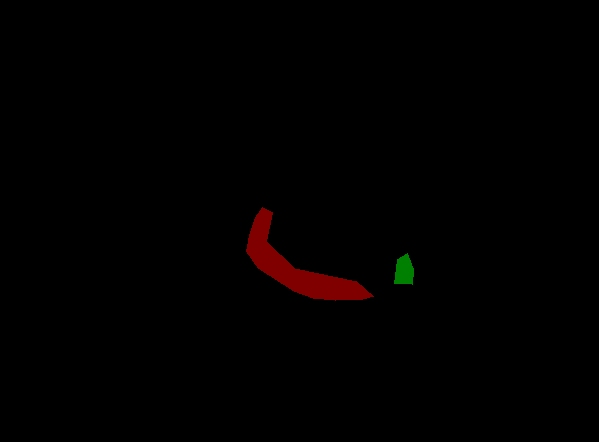fire: (246, 207, 373, 300), (394, 253, 413, 284)
